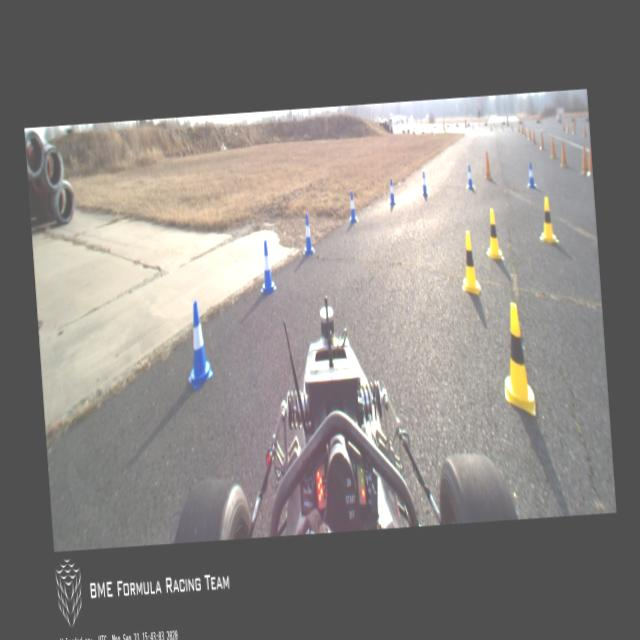blue_cone: (181, 297, 215, 391), (256, 239, 276, 294), (300, 212, 314, 254), (525, 160, 537, 190), (347, 190, 358, 222), (465, 164, 474, 189), (388, 178, 396, 204), (420, 171, 428, 196)
yellow_cone: (497, 298, 537, 420), (458, 229, 481, 298), (536, 192, 558, 246), (483, 207, 503, 260)
